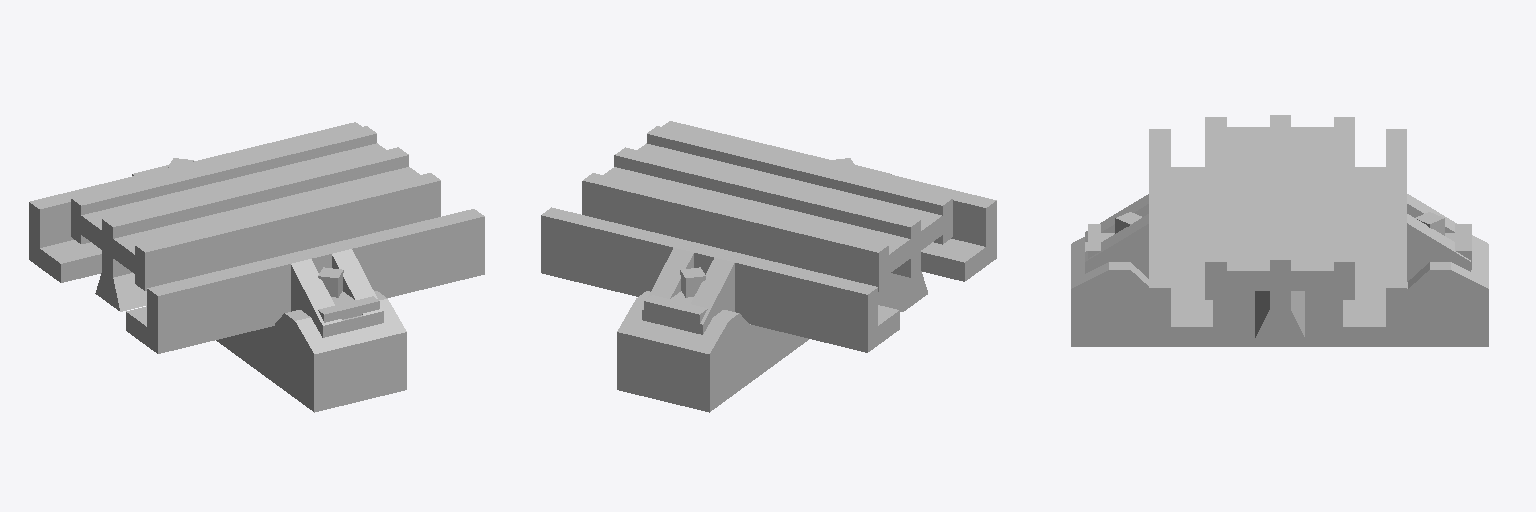
File: monorail_proto.obj
3 renders of one model, left to right at view 1: azimuth 30°, elevation 25°; view 2: azimuth 150°, elevation 25°; view 3: azimuth 270°, elevation 25°, orthographic.
Visible parts, largest first — view 1: RAIL_BASE, RAIL_RIGHT, RAIL_LEFT; view 2: RAIL_BASE, RAIL_LEFT, RAIL_RIGHT; view 3: RAIL_BASE, RAIL_RIGHT, RAIL_LEFT.
Boxes of the visible parts, x1,y1,x2,y2 form: RAIL_BASE: [71, 126, 440, 412]; RAIL_RIGHT: [126, 209, 484, 353]; RAIL_LEFT: [29, 122, 361, 282]; RAIL_BASE: [582, 126, 952, 412]; RAIL_LEFT: [541, 207, 899, 352]; RAIL_RIGHT: [662, 121, 996, 281]; RAIL_BASE: [1071, 115, 1488, 346]; RAIL_RIGHT: [1085, 129, 1212, 345]; RAIL_LEFT: [1343, 129, 1470, 345].
Size of the model in its own units: 1.1 by 0.4431 by 1.23.